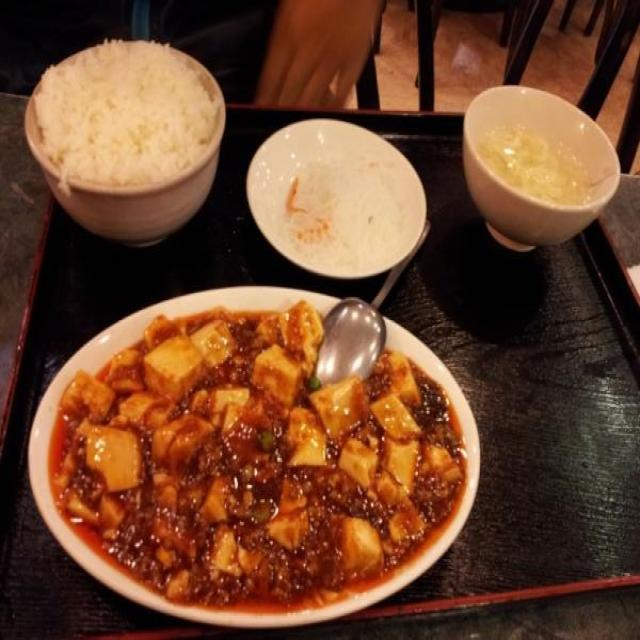Rice: (28, 31, 222, 193)
